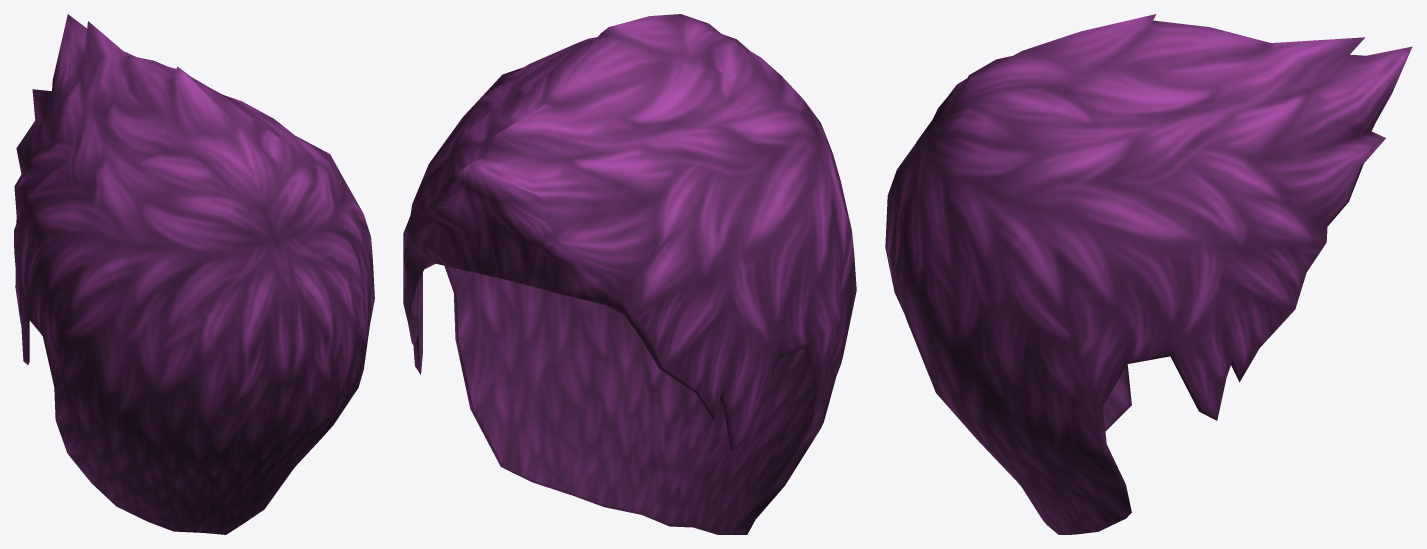
File: Hair_Male_005_textured_purple.glb
The picture shows the model from 3 angles, left to right: view 1: azimuth 30°, elevation 25°; view 2: azimuth 150°, elevation 25°; view 3: azimuth 270°, elevation 25°; orthographic projection. The views are drawn at different scales.
Parts seen in each view (by area): view 1: Hair_Male_005; view 2: Hair_Male_005; view 3: Hair_Male_005.
Boxes of the visible parts, x1,y1,x2,y2 form: Hair_Male_005: (14, 14, 374, 534); Hair_Male_005: (403, 14, 856, 534); Hair_Male_005: (885, 14, 1412, 534).
Bounding box in the file's own units: 0.1845 × 0.2501 × 0.2361.
1 material, 1 textured.
